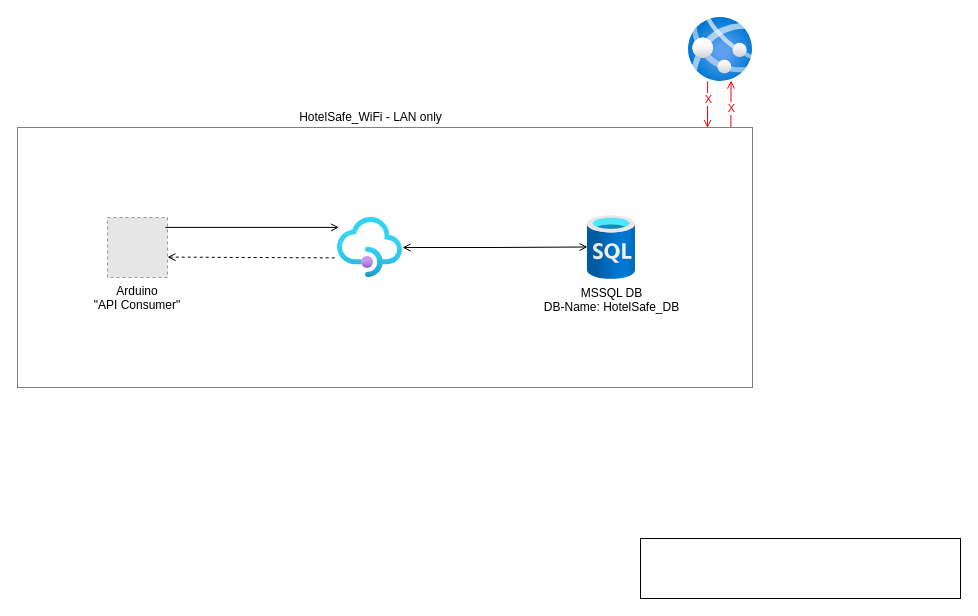
Some shapes in this 978 by 616 pixel diagram are drawn without their labels. Grey dashed boxes stand in for pictures. Each missing label, with the centre of its shape:
Architecture Design API V1.0 | 13.06.2021 | T.Kluser: (x=800, y=568)
HotelSafe API Port: 47505: (x=369, y=247)
